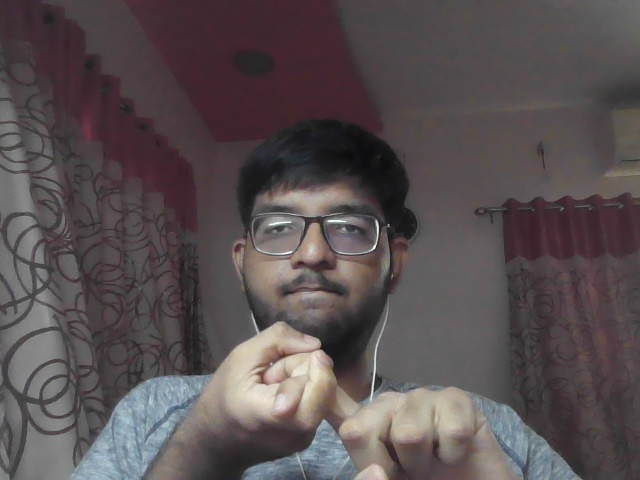મિત્ર: (148, 309, 516, 480)
